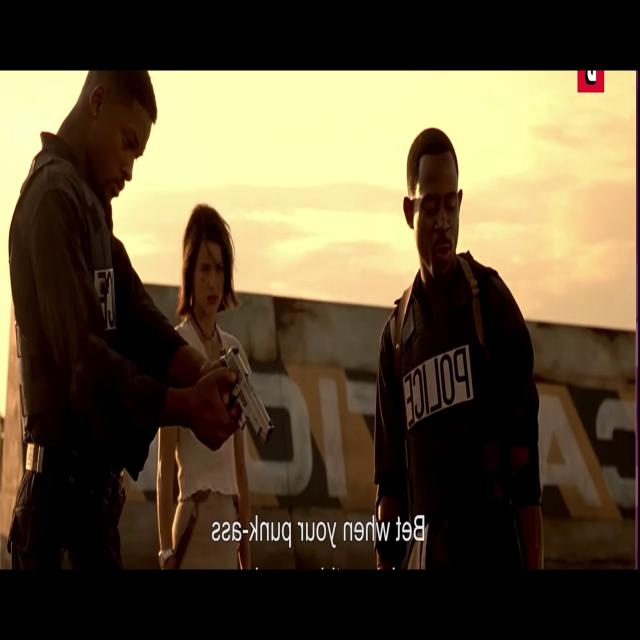weapons: (206, 332, 290, 444)
